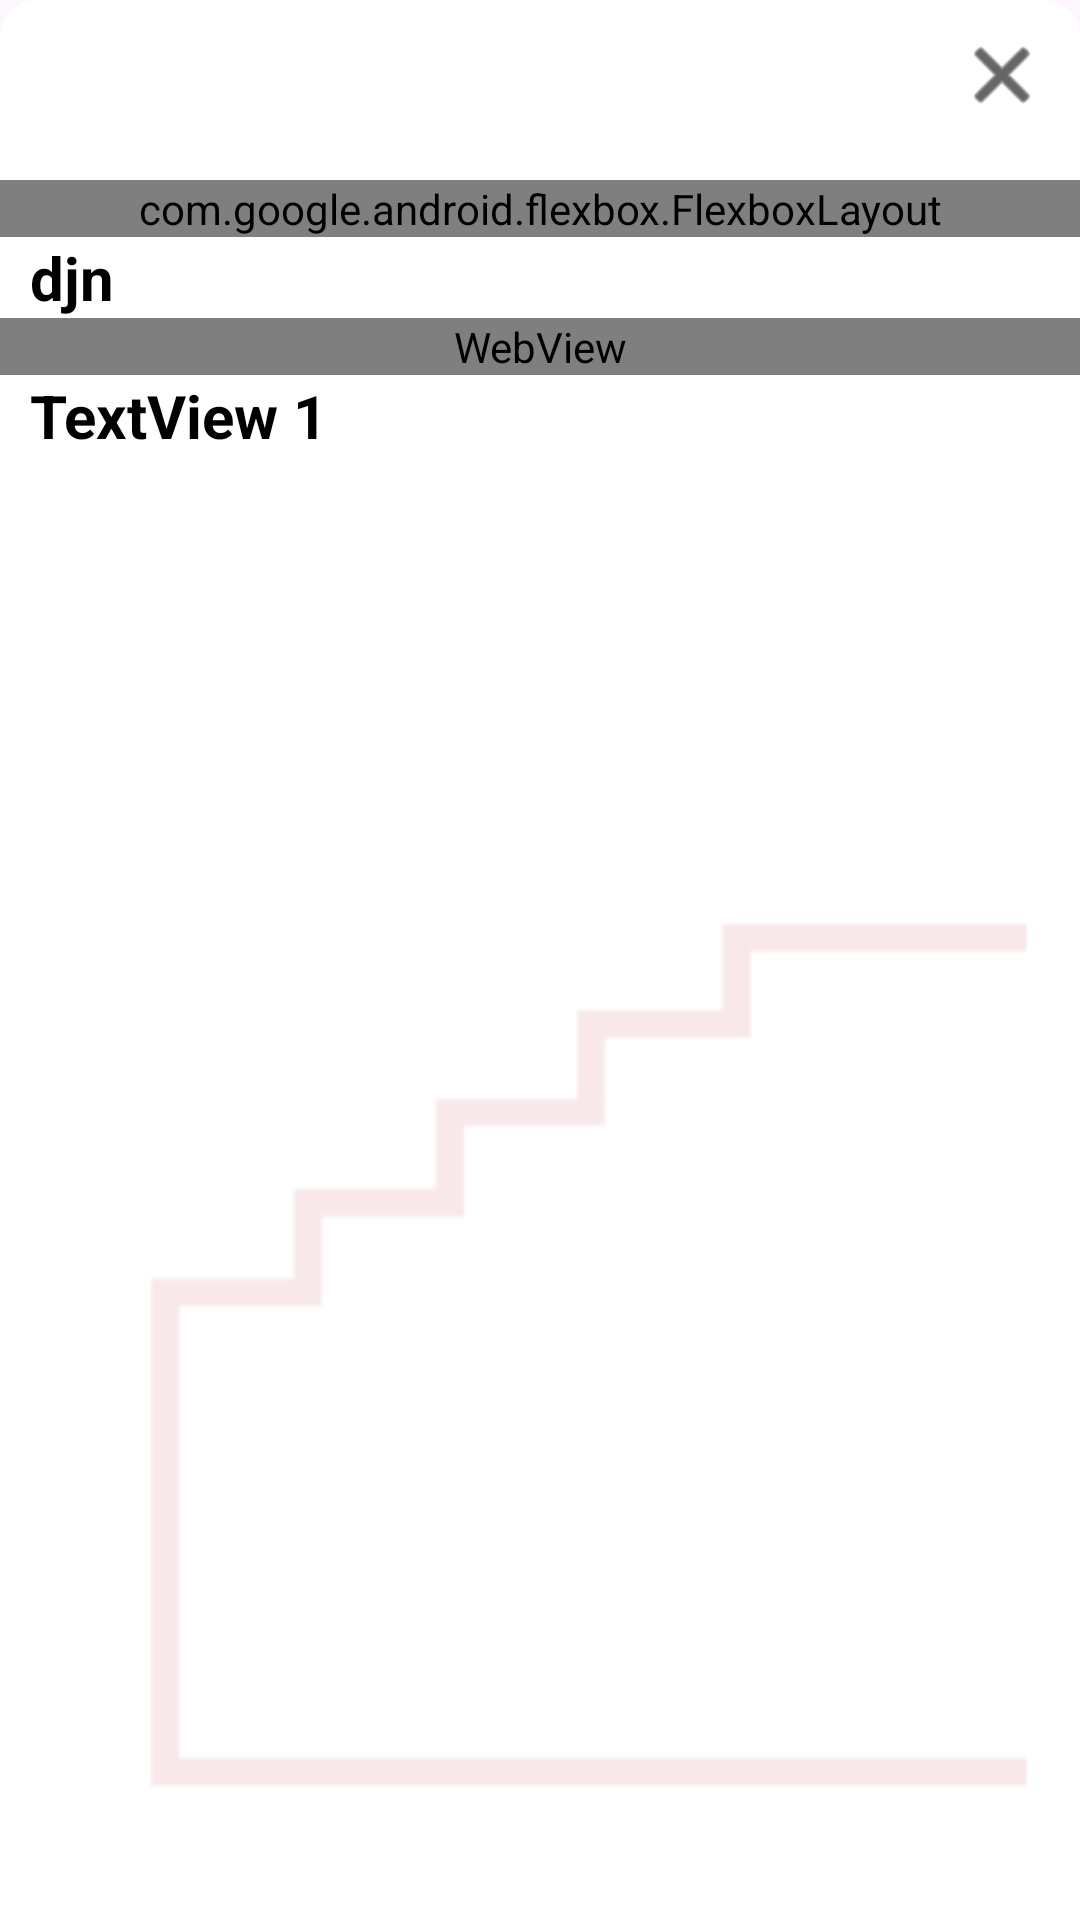

Screen size 1080w x 1920h. Icon name, then its center in pixels as (x,y):
close clear cancel: (1002,75)
